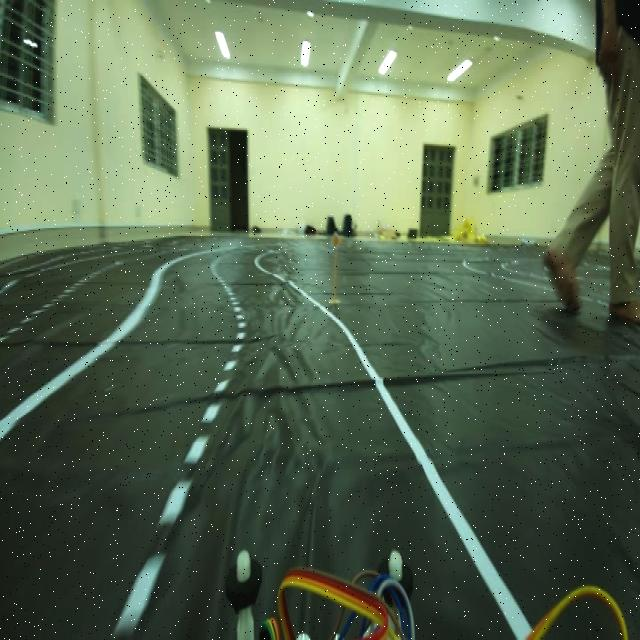priority: (331, 231, 342, 257)
